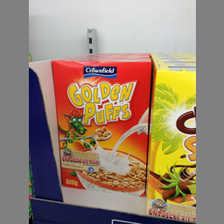cereal: (51, 58, 151, 199), (148, 67, 196, 209)
